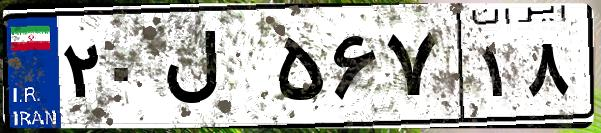0: (110, 28, 158, 98)
1: (475, 38, 525, 113)
2: (57, 26, 110, 100)
5: (270, 28, 330, 110)
6: (330, 28, 385, 110)
7: (385, 28, 445, 110)
8: (525, 38, 570, 115)
ل: (158, 20, 270, 120)
